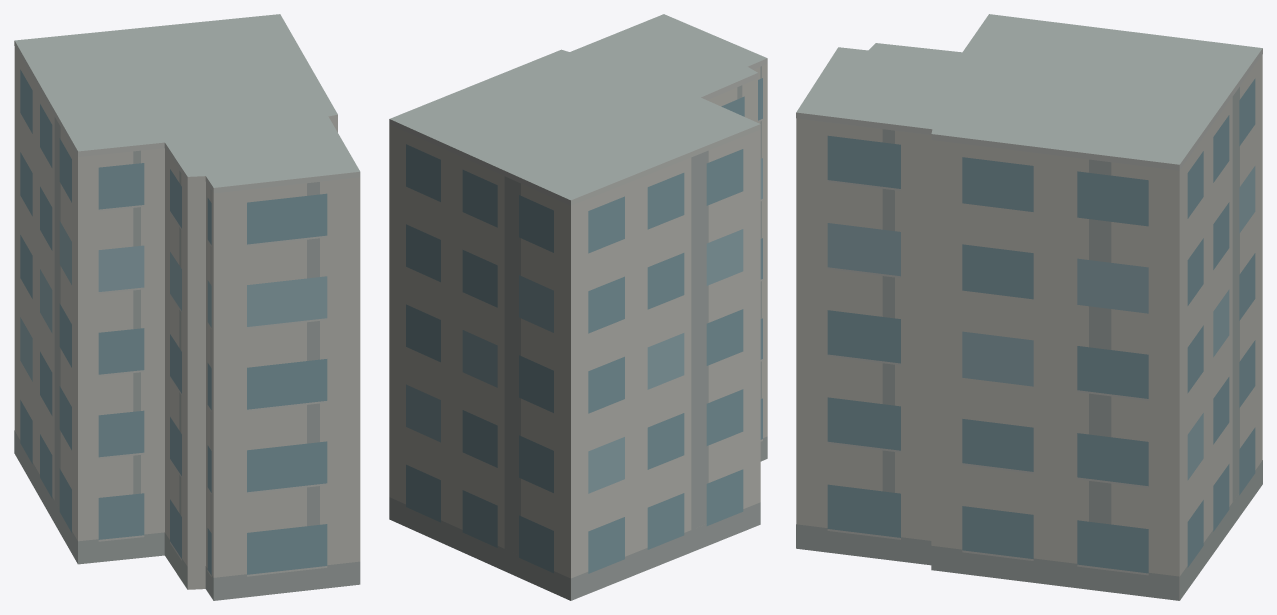
Rendered from survey-upis-32619161.glb.
3 renders of one model, left to right at view 1: azimuth 30°, elevation 25°; view 2: azimuth 150°, elevation 25°; view 3: azimuth 270°, elevation 25°, orthographic. The views are drawn at different scales.
Visible parts, largest first — view 1: survey-upis-32619161.tmp; view 2: survey-upis-32619161.tmp; view 3: survey-upis-32619161.tmp.
Part boxes in pixels (<box>): survey-upis-32619161.tmp: <box>14,14,360,600</box>; survey-upis-32619161.tmp: <box>389,14,767,600</box>; survey-upis-32619161.tmp: <box>796,14,1262,600</box>.
Size of the model in its own units: 13.2 by 17.8 by 17.27.
